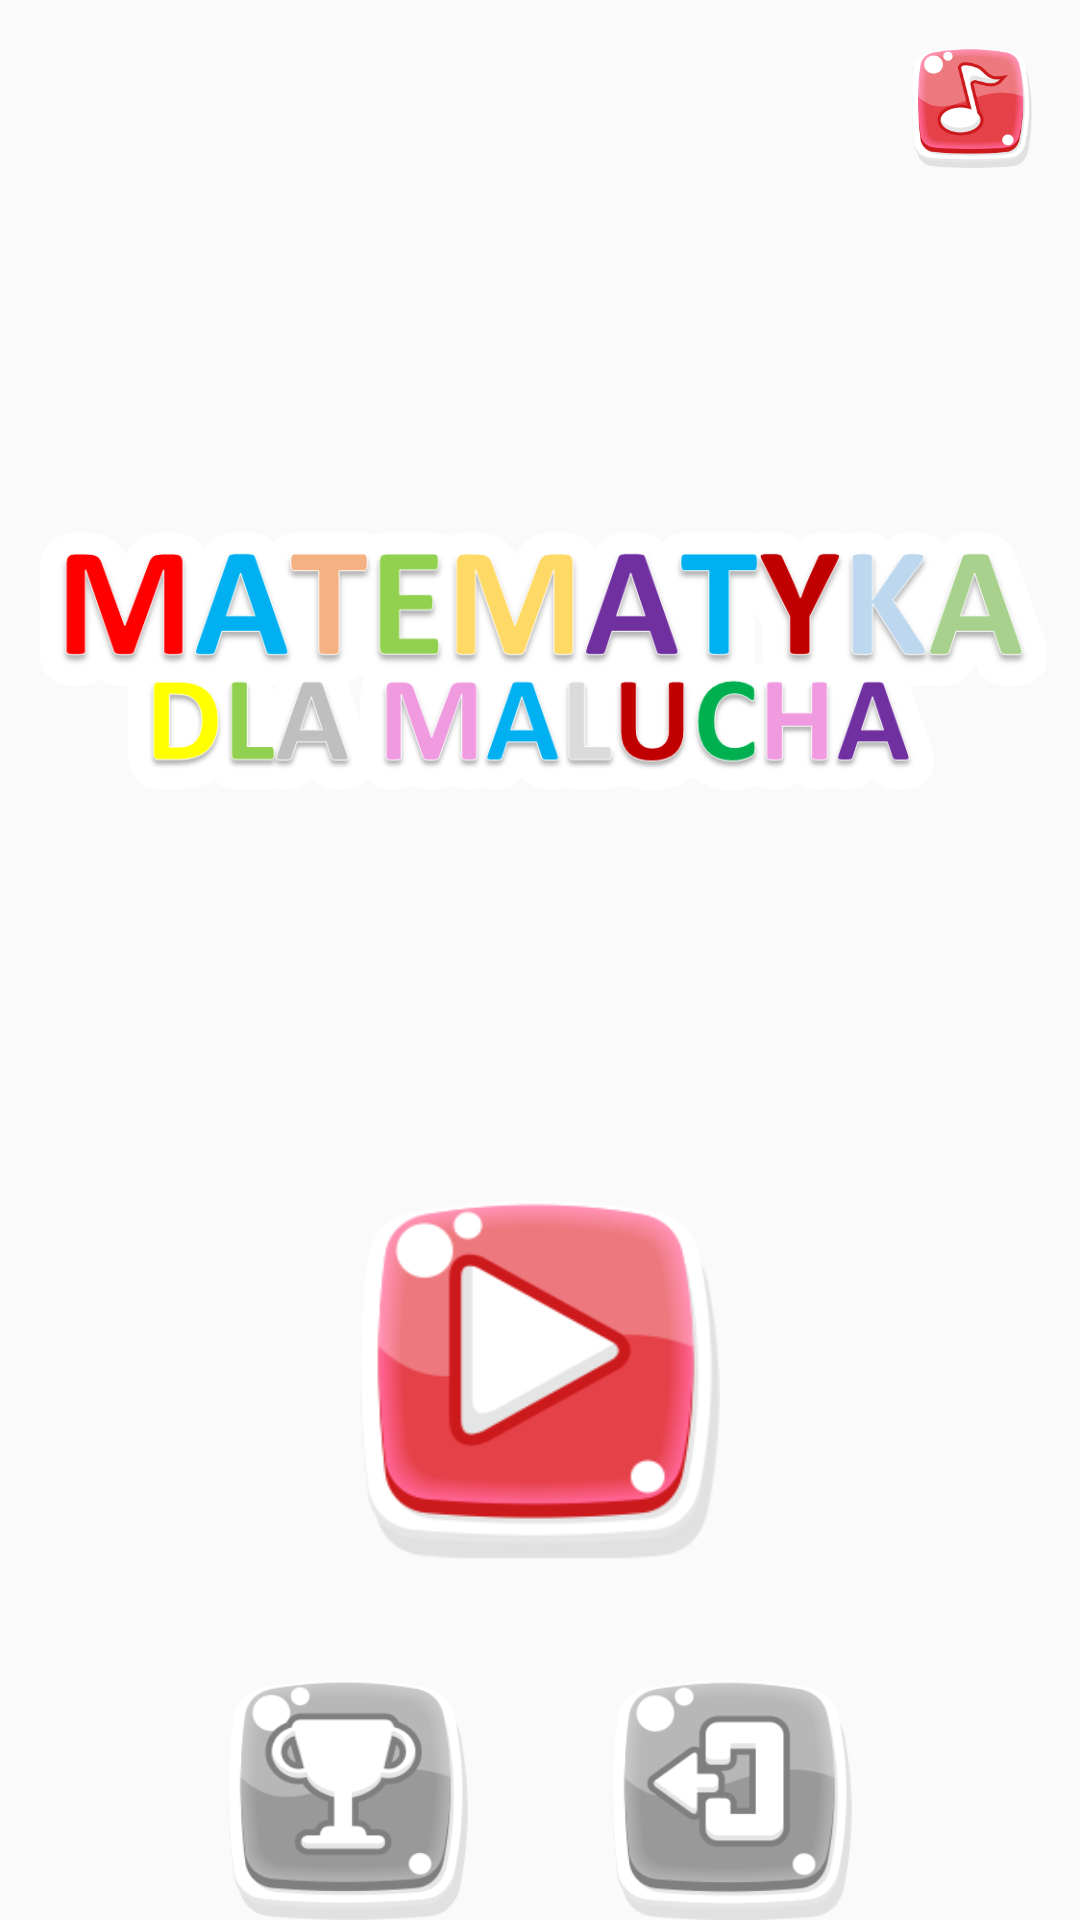

Screen size 1080px x 1920px. Icon name, then its box in pixels as box=[x1, y1, x2, y2]:
achievement: box=[240, 1683, 466, 1918]
exit: box=[624, 1683, 850, 1920]
music on: box=[918, 49, 1031, 167]
play: box=[377, 1204, 717, 1557]
